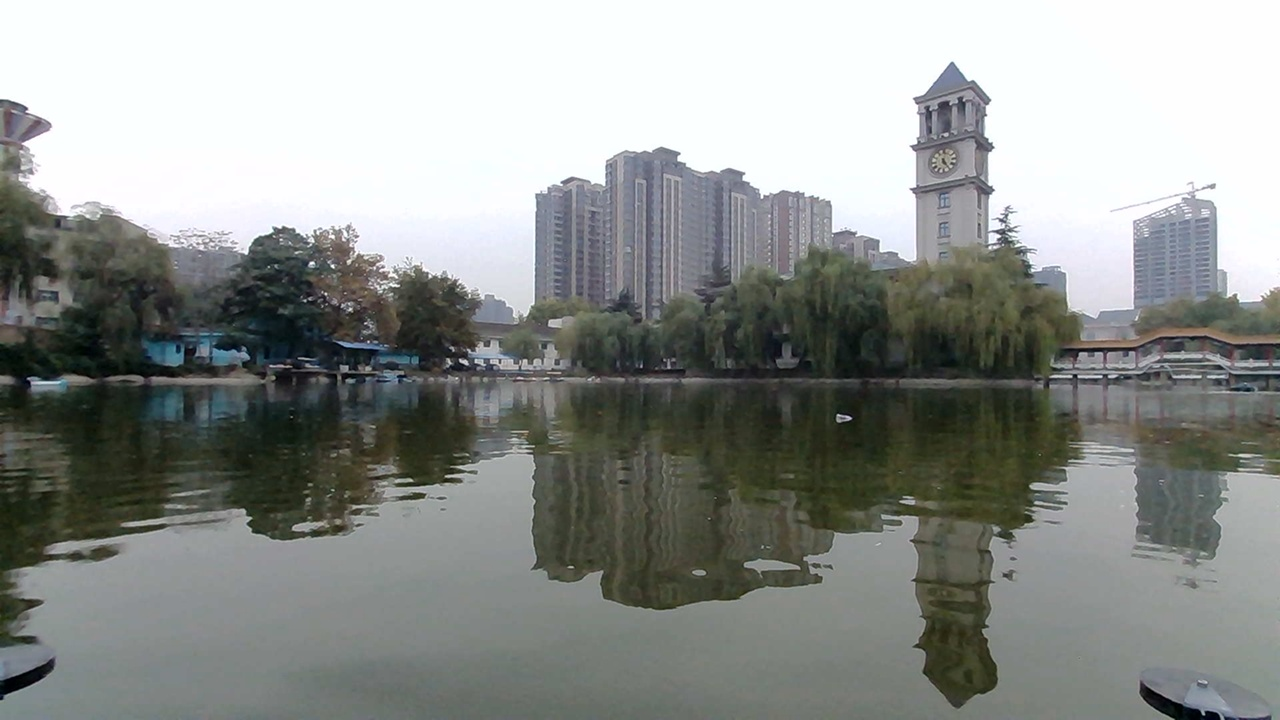bottle: (830, 400, 869, 430)
